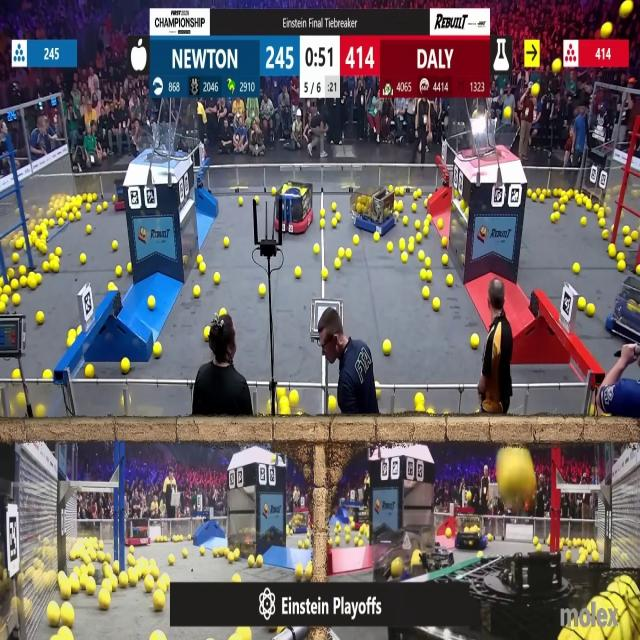ball_airborne: (621, 1, 633, 17), (602, 24, 612, 40), (554, 60, 562, 73), (503, 106, 511, 118), (532, 85, 539, 98), (466, 492, 472, 501)
ball_ground: (62, 607, 75, 629), (47, 606, 59, 629), (152, 592, 164, 612), (391, 560, 402, 577), (100, 592, 110, 610), (61, 584, 71, 600), (59, 629, 72, 640), (416, 393, 424, 410), (120, 357, 129, 372), (145, 579, 154, 593), (130, 571, 139, 585), (88, 582, 97, 596), (71, 581, 80, 595), (384, 341, 392, 356), (35, 407, 44, 420), (87, 363, 95, 377), (470, 336, 478, 350), (577, 296, 585, 310), (294, 564, 302, 578), (290, 391, 298, 405), (121, 574, 129, 588), (110, 578, 118, 592), (103, 564, 112, 576), (152, 344, 160, 357), (258, 284, 266, 297), (608, 245, 616, 258), (588, 305, 596, 318), (328, 396, 336, 409), (36, 312, 44, 325), (28, 278, 36, 290), (18, 277, 26, 289), (150, 632, 162, 640), (432, 296, 439, 309), (192, 285, 199, 297), (213, 273, 220, 285), (422, 286, 429, 298), (572, 264, 579, 276), (12, 293, 19, 305), (148, 295, 154, 309), (43, 368, 51, 378), (282, 408, 290, 418), (204, 327, 210, 340), (619, 262, 626, 273), (115, 267, 122, 278), (248, 556, 255, 567), (50, 263, 57, 274), (11, 279, 18, 290), (89, 564, 96, 575), (396, 202, 403, 213), (234, 573, 242, 582), (256, 555, 262, 567), (114, 561, 120, 573), (339, 248, 346, 258), (447, 276, 454, 286), (420, 270, 427, 280), (18, 267, 25, 277), (12, 368, 19, 378), (418, 250, 425, 260), (11, 252, 18, 262), (129, 556, 136, 566), (294, 268, 300, 279), (426, 271, 432, 282), (0, 303, 6, 314), (399, 240, 405, 251), (36, 274, 42, 285), (3, 286, 11, 294), (68, 328, 76, 336), (586, 202, 593, 211), (578, 555, 585, 564), (7, 270, 14, 279), (401, 252, 407, 262), (43, 264, 49, 274), (322, 270, 328, 280), (626, 237, 632, 247), (314, 244, 320, 254), (347, 248, 352, 260), (200, 264, 206, 274), (602, 231, 608, 241), (425, 257, 431, 267), (336, 261, 342, 271), (169, 555, 175, 565), (599, 218, 605, 228), (182, 549, 188, 559), (108, 282, 114, 292), (68, 338, 74, 348), (632, 232, 638, 242), (226, 554, 232, 564), (235, 550, 241, 560), (592, 552, 598, 562), (566, 552, 572, 562), (152, 567, 158, 577), (40, 244, 46, 254), (427, 409, 434, 417), (1, 294, 8, 302), (619, 252, 626, 260), (388, 242, 393, 253), (443, 238, 449, 247), (353, 236, 359, 245), (88, 224, 94, 233), (579, 217, 585, 226), (409, 244, 415, 253), (423, 226, 429, 235), (376, 389, 382, 398), (195, 254, 201, 263), (439, 219, 445, 228), (182, 255, 188, 264), (375, 234, 381, 243), (444, 254, 449, 264), (80, 253, 85, 263), (112, 241, 117, 251), (417, 234, 422, 244), (552, 212, 557, 222), (320, 218, 325, 228), (447, 528, 452, 538), (76, 326, 81, 336), (554, 203, 560, 211), (624, 226, 630, 234), (220, 308, 226, 316), (68, 213, 74, 221), (130, 544, 136, 552), (75, 212, 81, 220), (48, 218, 54, 226), (155, 534, 161, 542), (223, 238, 228, 247), (57, 248, 62, 257), (331, 203, 336, 212), (331, 219, 336, 228), (539, 193, 544, 202), (460, 201, 465, 210), (560, 206, 566, 213), (562, 198, 568, 205), (48, 253, 54, 260), (532, 537, 538, 544), (212, 551, 218, 558), (410, 237, 416, 244), (402, 216, 407, 224), (636, 266, 640, 276), (416, 220, 421, 228), (532, 192, 537, 200), (320, 209, 325, 217), (0, 277, 4, 287), (337, 536, 341, 546), (576, 199, 581, 207), (346, 535, 351, 543), (417, 189, 422, 197), (89, 192, 94, 200), (594, 205, 599, 213), (305, 540, 310, 548), (354, 537, 359, 545), (527, 187, 532, 195), (129, 265, 133, 274), (112, 194, 116, 203), (413, 205, 418, 212), (536, 543, 541, 550), (60, 218, 65, 225), (88, 205, 93, 212), (535, 188, 540, 195), (554, 188, 559, 195), (254, 195, 259, 202), (98, 206, 102, 214), (201, 546, 205, 554), (426, 214, 430, 222), (240, 198, 244, 206), (272, 187, 276, 195), (346, 526, 350, 534), (57, 210, 61, 218), (104, 203, 108, 210), (424, 201, 428, 208), (338, 213, 342, 220), (297, 540, 301, 547), (560, 542, 564, 549), (399, 188, 403, 195), (545, 538, 549, 544), (488, 534, 492, 540), (188, 534, 192, 540)
goal: (466, 120, 522, 160), (129, 128, 188, 160)
robot_blue: (350, 187, 396, 237), (456, 514, 486, 551), (286, 513, 308, 535)
robot_red: (273, 181, 313, 235), (608, 282, 640, 343), (116, 170, 137, 213), (125, 519, 152, 545)
